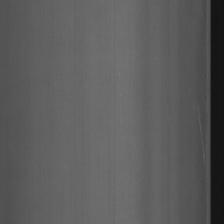silk_spot: (197, 96, 209, 174)
